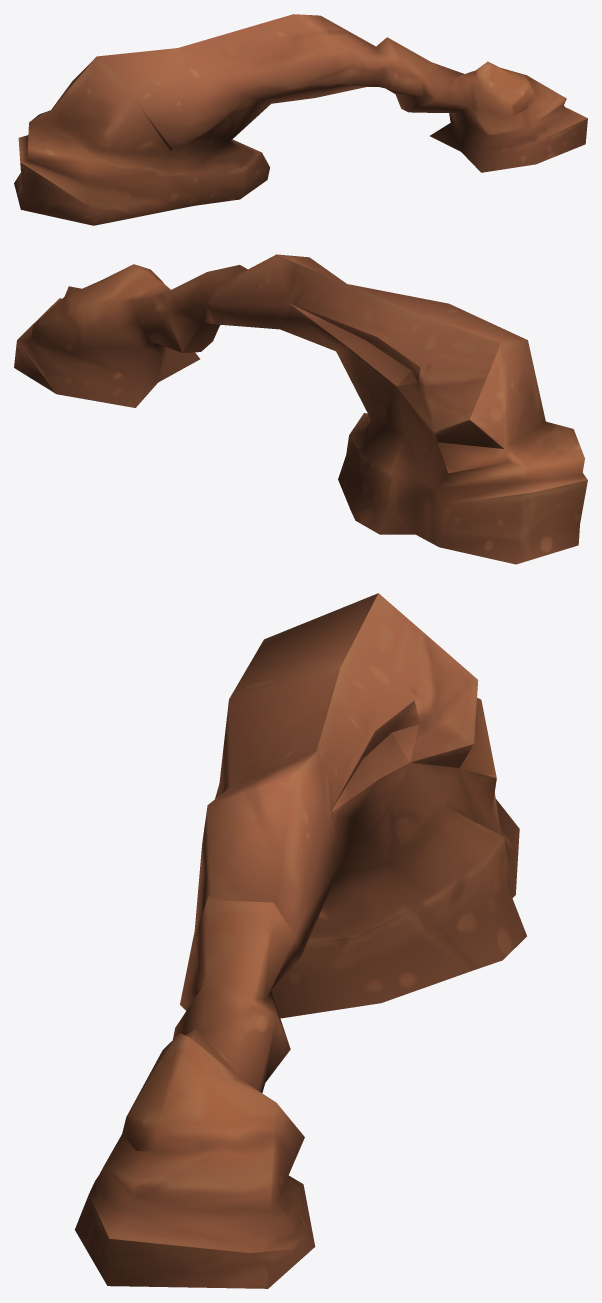
Rendered from RockFormation_07.fbx.
3 renders of one model, top to bottom at view 1: azimuth 30°, elevation 25°; view 2: azimuth 150°, elevation 25°; view 3: azimuth 270°, elevation 25°, orthographic. The views are drawn at different scales.
Parts seen in each view (by area): view 1: RockFormation_07_GEO1; view 2: RockFormation_07_GEO1; view 3: RockFormation_07_GEO1.
Part boxes in pixels (left/top/right/bottom): RockFormation_07_GEO1: left=14, top=14, right=587, bottom=225; RockFormation_07_GEO1: left=14, top=254, right=587, bottom=564; RockFormation_07_GEO1: left=75, top=593, right=526, bottom=1288.
Bounding box in the file's own units: 37.64 × 11.1 × 14.84.
